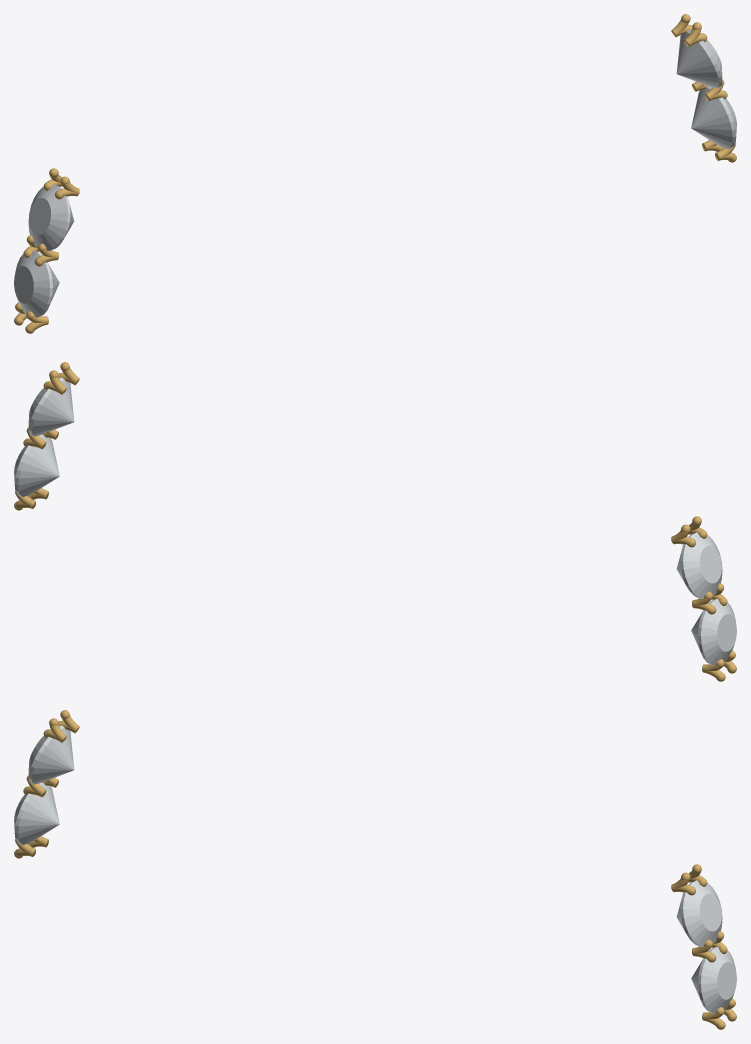
File: accents-shared-prong-multi.glb
The picture shows the model from 3 angles, top to bottom: view 1: azimuth 30°, elevation 25°; view 2: azimuth 150°, elevation 25°; view 3: azimuth 330°, elevation 25°; orthographic projection.
Parts seen in each view (by area): view 1: Gem, Gem.001, Gem.003, Gem.002; view 2: Gem, Gem.001, Gem.003, Gem.002; view 3: Gem.002, Gem.003, Gem.001, Gem.
Part boxes in pixels (x1=…): Gem: x1=28, y1=184, x2=74, y2=251; Gem.001: x1=14, y1=251, x2=59, y2=317; Gem.003: x1=691, y1=86, x2=736, y2=148; Gem.002: x1=676, y1=29, x2=722, y2=88; Gem: x1=676, y1=532, x2=722, y2=599; Gem.001: x1=691, y1=599, x2=736, y2=665; Gem.003: x1=14, y1=434, x2=59, y2=496; Gem.002: x1=28, y1=377, x2=74, y2=436; Gem.002: x1=676, y1=880, x2=722, y2=947; Gem.003: x1=691, y1=947, x2=736, y2=1013; Gem.001: x1=14, y1=782, x2=59, y2=844; Gem: x1=28, y1=725, x2=74, y2=784.
Size of the model in its own units: 19.9 by 3.96 by 1.65.
